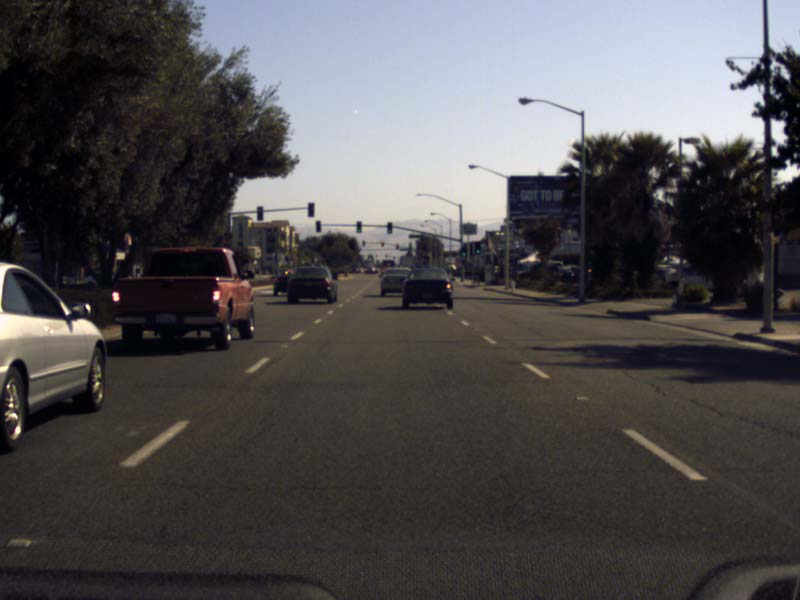Green: (475, 243, 480, 254), (460, 247, 466, 256), (386, 222, 391, 232), (356, 221, 361, 231)
Red: (381, 240, 383, 246)
